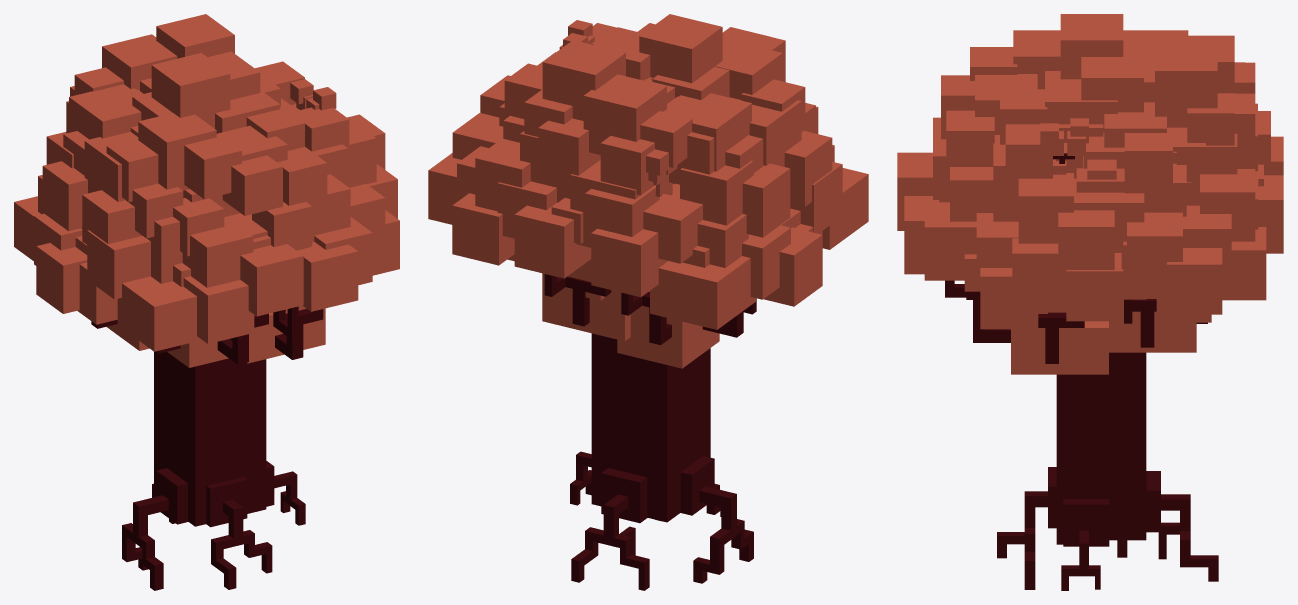
File: TREE.fbx
3 renders of one model, left to right at view 1: azimuth 30°, elevation 25°; view 2: azimuth 150°, elevation 25°; view 3: azimuth 270°, elevation 25°, orthographic. The views are drawn at different scales.
Visible parts, largest first — view 1: Cube.169, Cube.066; view 2: Cube.169, Cube.066; view 3: Cube.169, Cube.066.
Boxes of the visible parts, x1,y1,x2,y2 form: Cube.169: (14, 14, 399, 367); Cube.066: (91, 306, 323, 590); Cube.169: (428, 14, 868, 368); Cube.066: (544, 274, 756, 590); Cube.169: (897, 14, 1283, 374); Cube.066: (945, 153, 1218, 590).
Bounding box in the file's own units: 1348 × 2067 × 1328.
